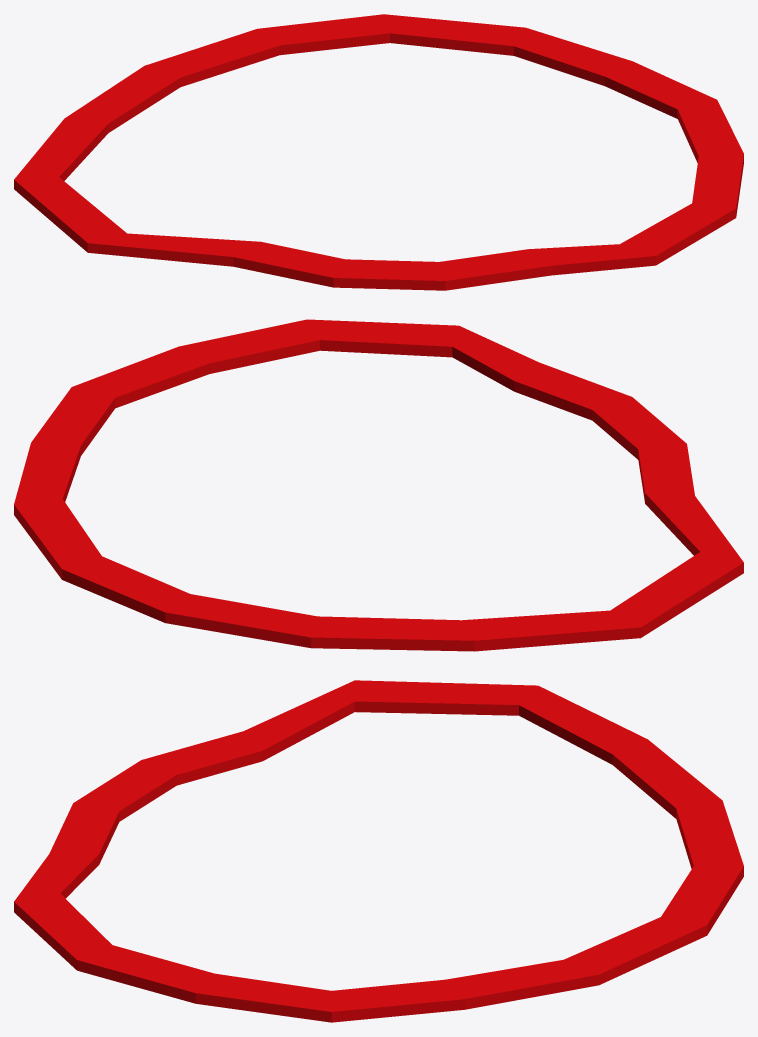
3 renders of one model, top to bottom at view 1: azimuth 30°, elevation 25°; view 2: azimuth 150°, elevation 25°; view 3: azimuth 270°, elevation 25°, orthographic. The views are drawn at different scales.
Visible parts, largest first — view 1: Cylinder; view 2: Cylinder; view 3: Cylinder.
Part boxes in pixels (box(x1,y1,x2,y2)): Cylinder: box(14, 14, 743, 290); Cylinder: box(14, 319, 743, 651); Cylinder: box(14, 680, 743, 1022).
Bounding box in the file's own units: 249 × 3.73 × 232.
